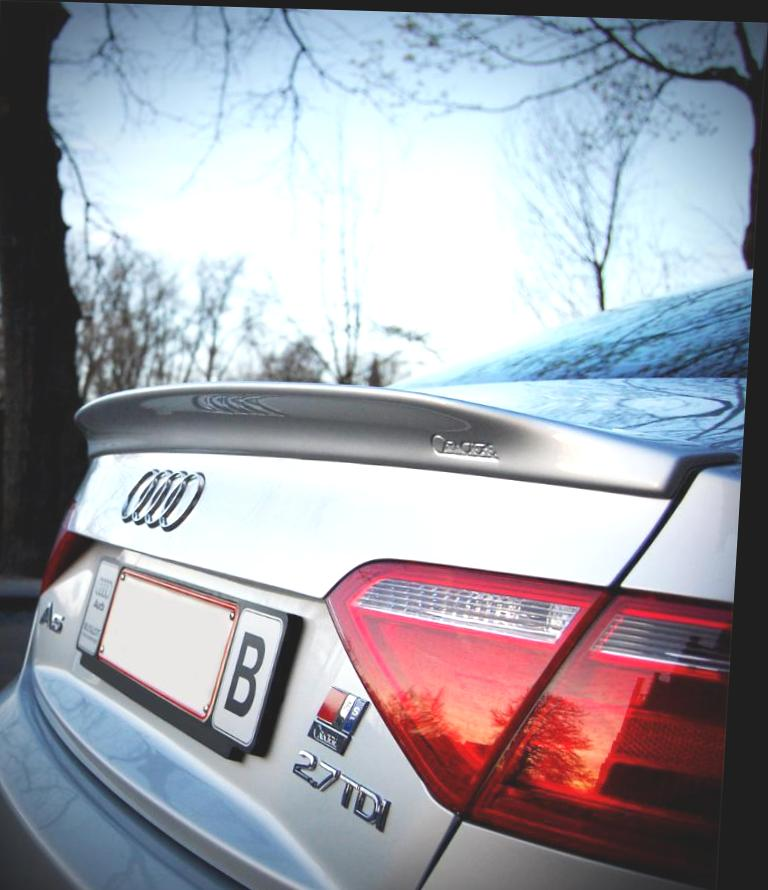License_Plate: (69, 552, 297, 764)
